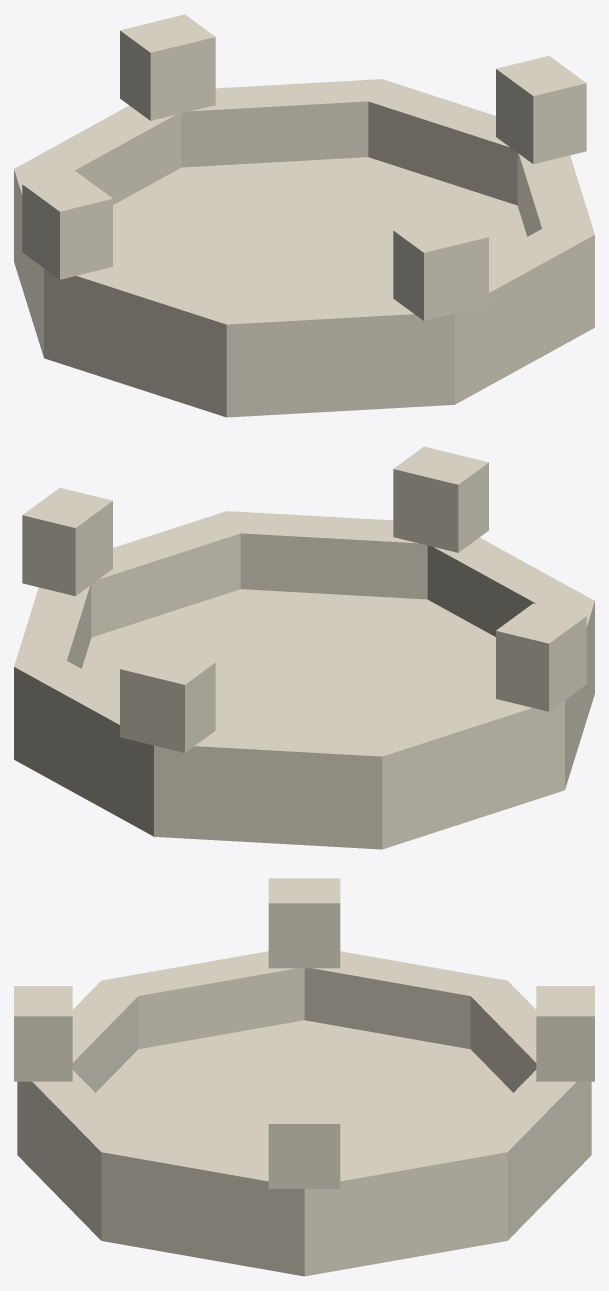
Rendered from octagonal-tower-battlement.glb.
3 views of the same model, one above another, from view 1: azimuth 30°, elevation 25°; view 2: azimuth 150°, elevation 25°; view 3: azimuth 270°, elevation 25° (orthographic). The views are drawn at different scales.
Parts seen in each view (by area): view 1: octagonal-tower-battlement; view 2: octagonal-tower-battlement; view 3: octagonal-tower-battlement.
Boxes of the visible parts, x1,y1,x2,y2 form: octagonal-tower-battlement: [14, 14, 594, 417]; octagonal-tower-battlement: [14, 446, 594, 849]; octagonal-tower-battlement: [14, 878, 594, 1276].
Size of the model in its own units: 4.45 by 1.3 by 4.45.
